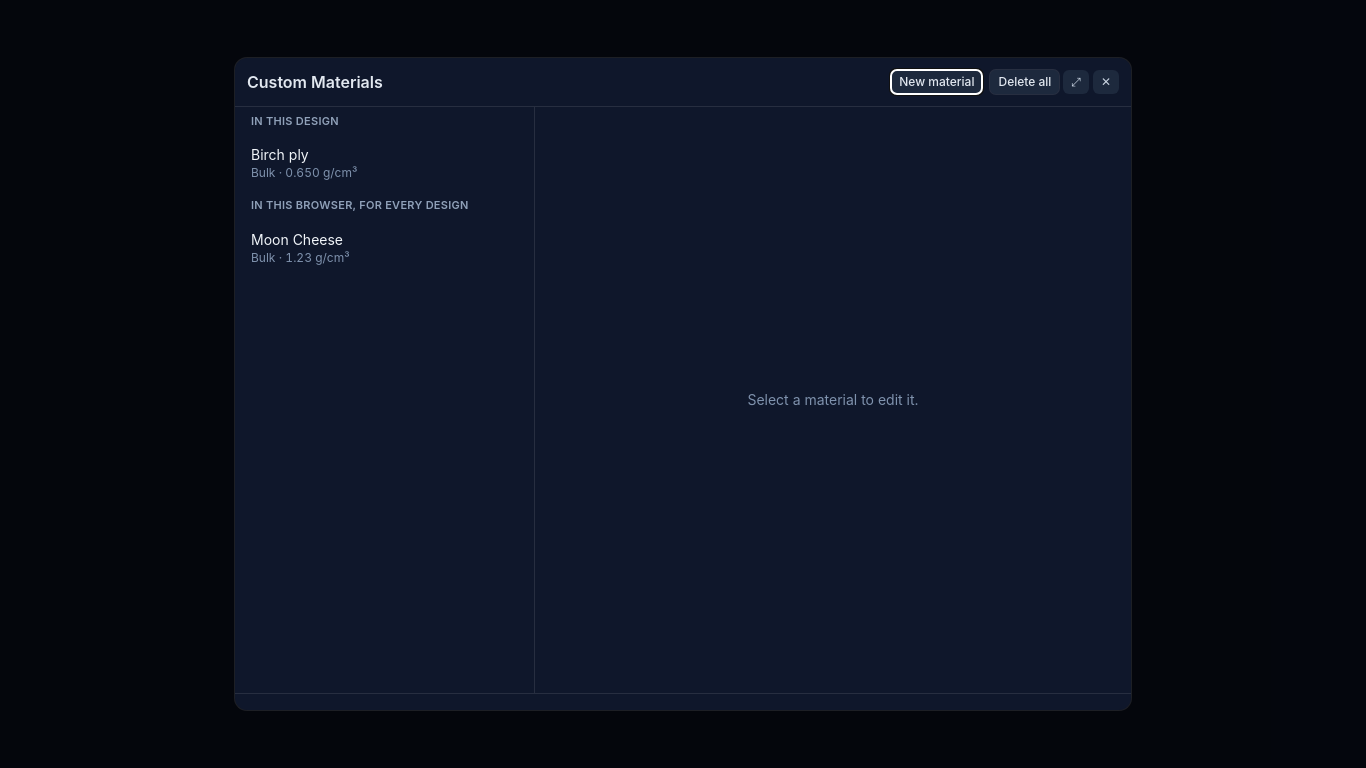
Test case: Custom Materials › refuses to delete a design material a part is made of, and says which
Click the button "Birch ply Bulk · 0.650 g/cm³" at (280, 155), box 235,135 -> 534,191
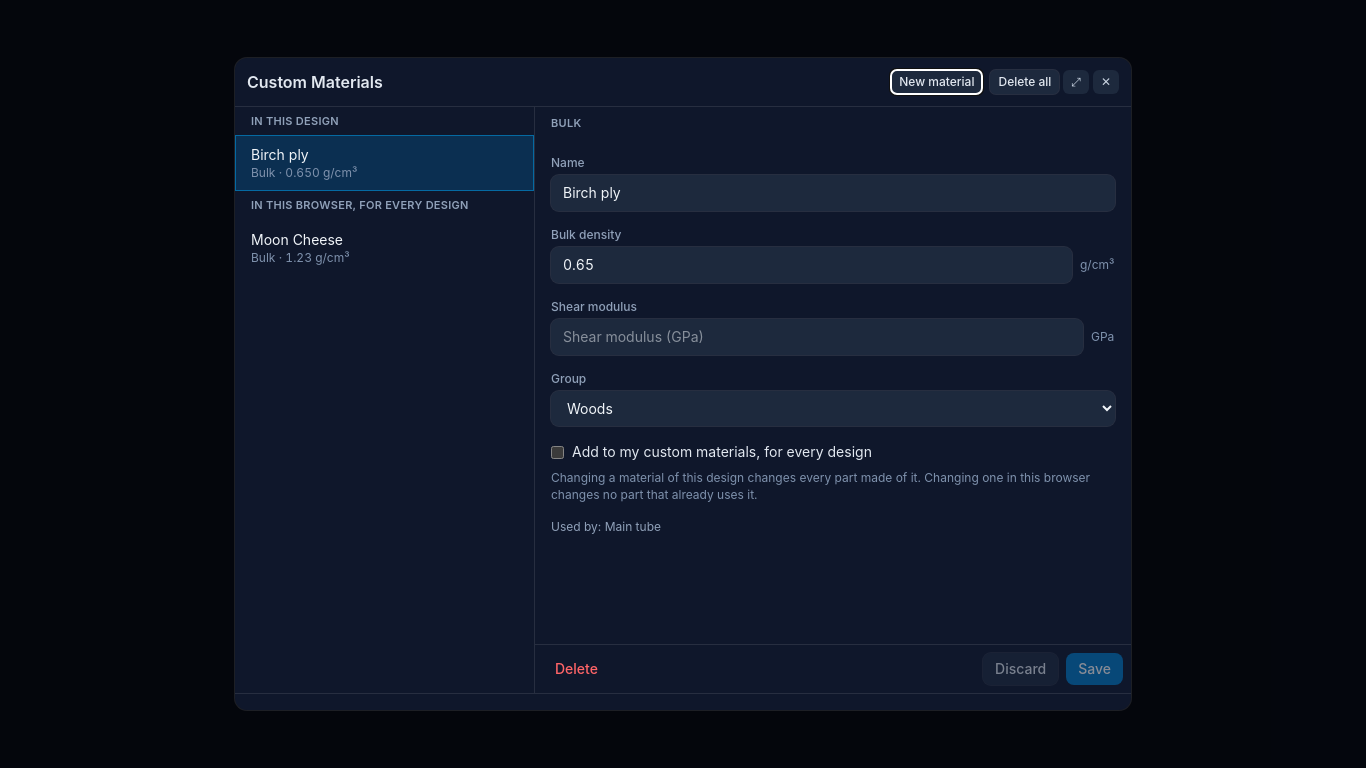
Click the button "Delete" at (576, 669), box 543,653 -> 610,685
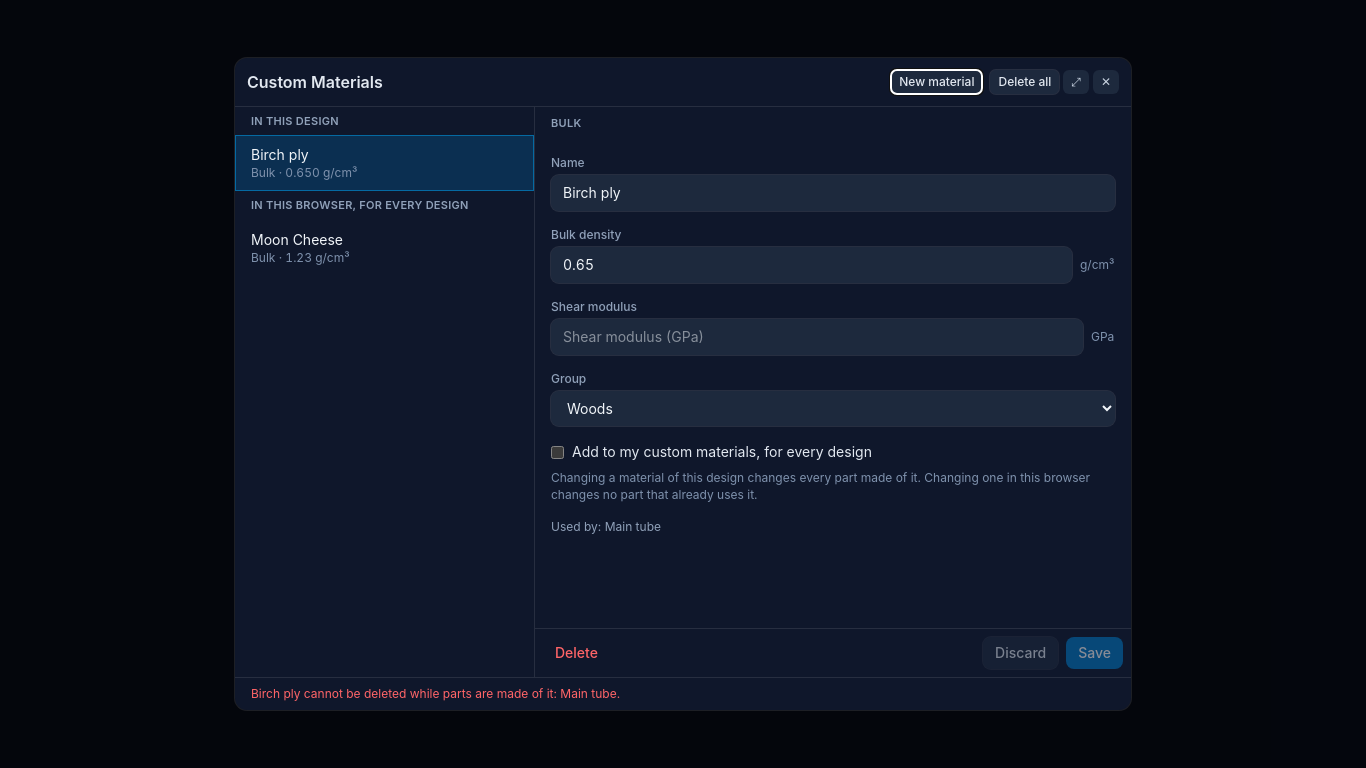
Check: the text "Birch ply cannot be deleted while parts are made of it: Main tube." is shown, box 251,686 -> 620,701
